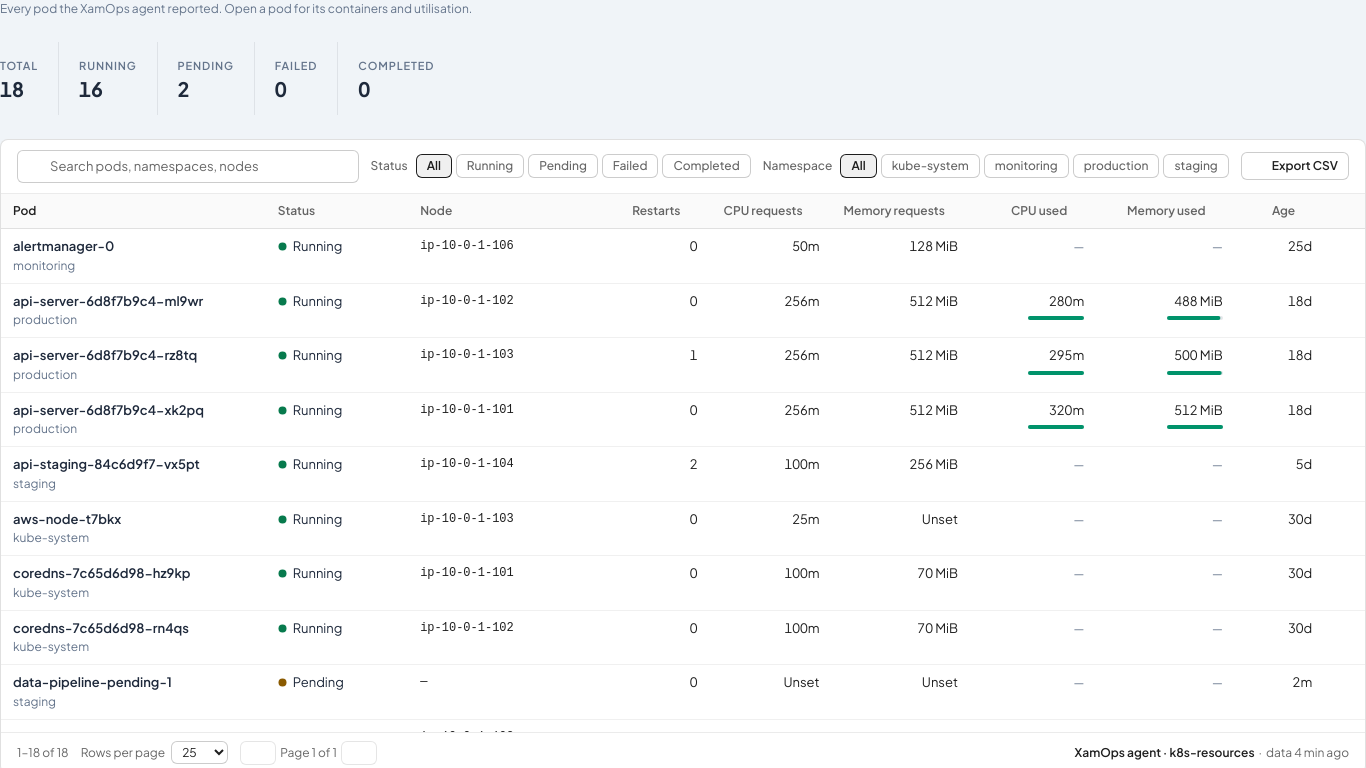
Workloads › Pods (§10.4, D10) › shows the Cost section with the real per-pod figure when the engine priced the pod (FEAT-002)
The image size is (1366, 768).
Click the button with aria-label "api-server-6d8f7b9c4-xk2pq" at (108, 410), box [1,392,1365,446]
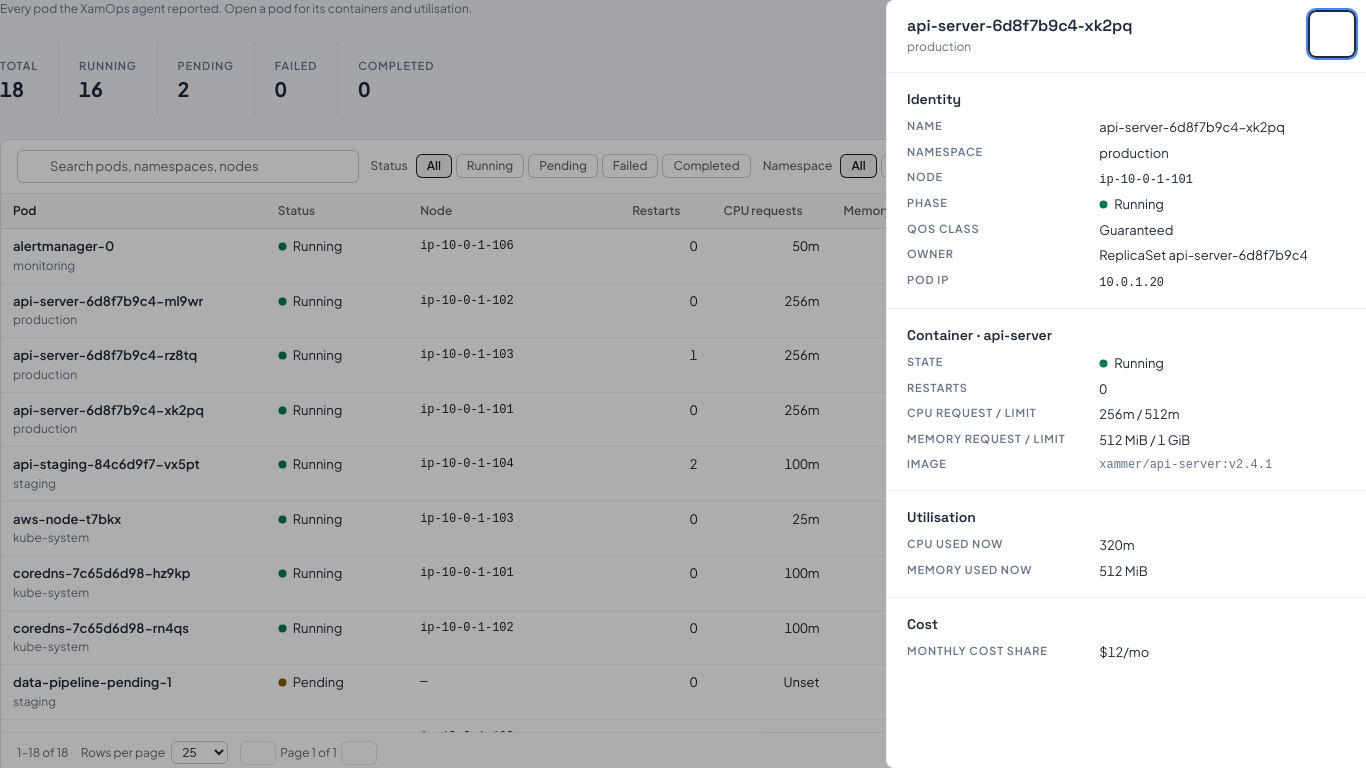
Now the heading "Cost" is shown, box [907,615,938,633]
Now the text "$12/mo" is shown, box [1099,644,1149,660]
